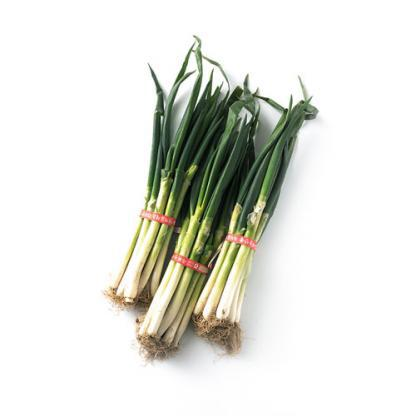green onion: (194, 85, 322, 361), (130, 100, 264, 360), (94, 61, 233, 310)
